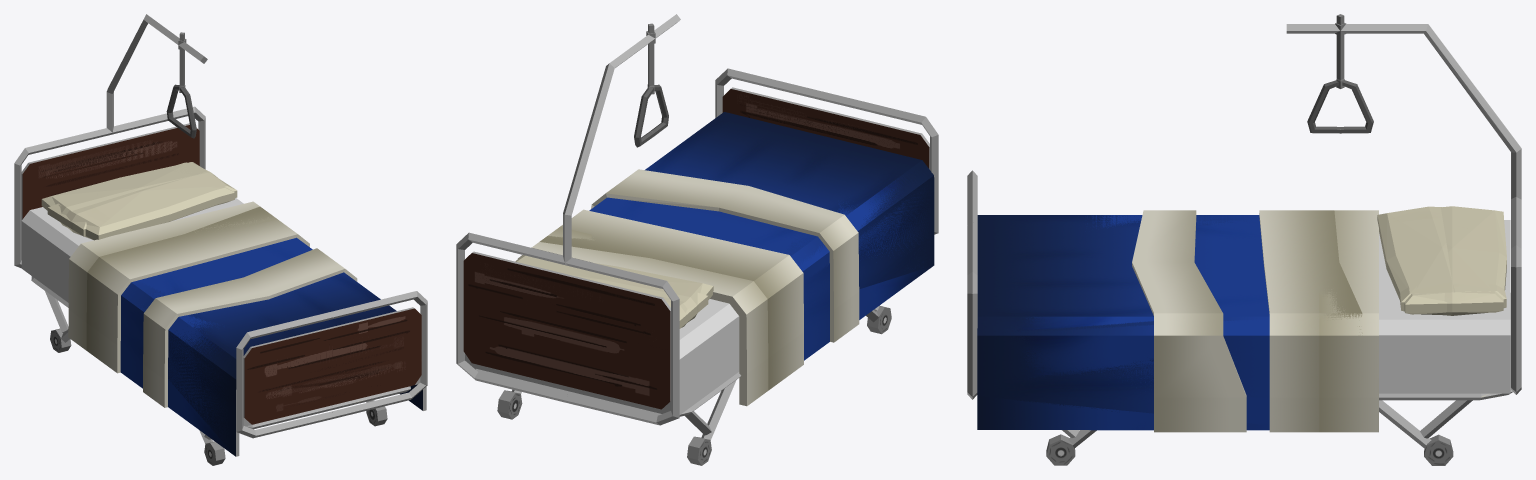
Rendered from letto.FBX.
3 renders of one model, left to right at view 1: azimuth 30°, elevation 25°; view 2: azimuth 150°, elevation 25°; view 3: azimuth 270°, elevation 25°, orthographic. The views are drawn at different scales.
Visible parts, largest first — view 1: letto mezzo disfatto, letto fatto, letto disfatto, maniglia per reggersi; view 2: letto mezzo disfatto, letto fatto, letto disfatto, maniglia per reggersi; view 3: letto fatto, letto disfatto, letto mezzo disfatto, maniglia per reggersi.
Part boxes in pixels (x1,y1,x2,y2): letto mezzo disfatto: (14, 106, 427, 465); letto fatto: (15, 108, 427, 465); letto disfatto: (21, 162, 422, 456); maniglia per reggersi: (106, 14, 207, 138); letto mezzo disfatto: (456, 68, 938, 465); letto fatto: (456, 69, 938, 465); letto disfatto: (515, 161, 934, 413); maniglia per reggersi: (563, 14, 680, 264); letto fatto: (967, 170, 1521, 465); letto disfatto: (978, 206, 1510, 432); letto mezzo disfatto: (972, 152, 1521, 456); maniglia per reggersi: (1286, 14, 1521, 199).
Bounding box in the file's own units: 1.13 × 1.78 × 2.24.
